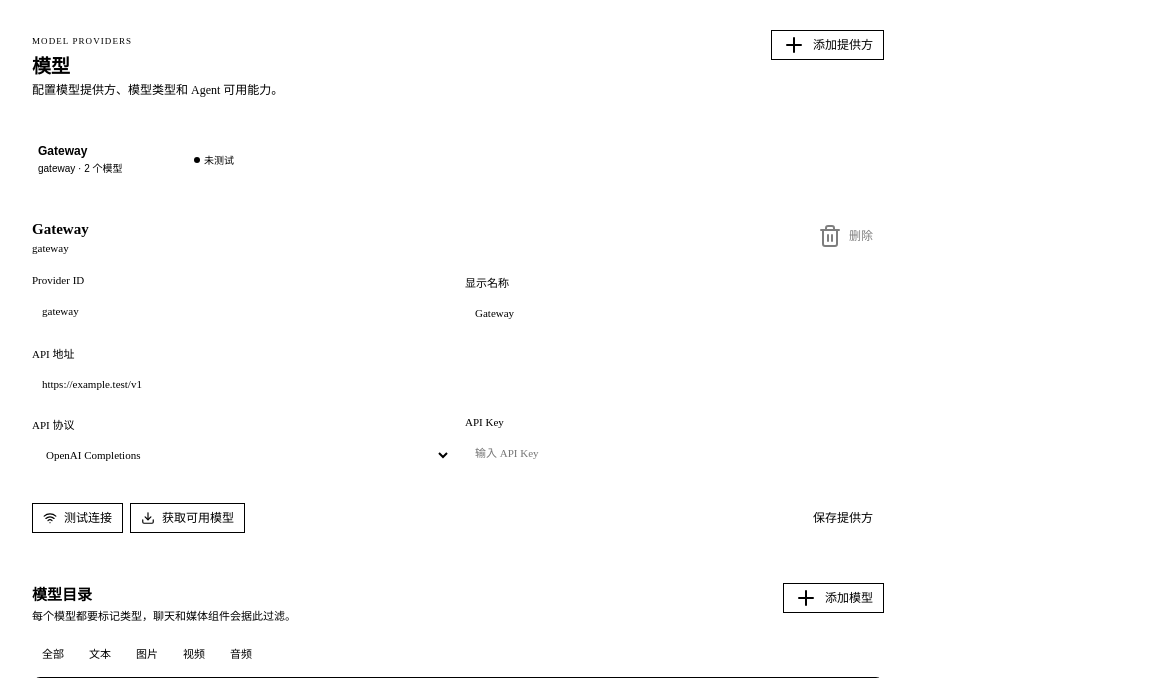
Test: SettingsPage and ModelSettingsCard › filters model catalog by text, image, video and audio type
Click the tab "图片" at (147, 653), box [126,639,168,667]
(page scrolled)
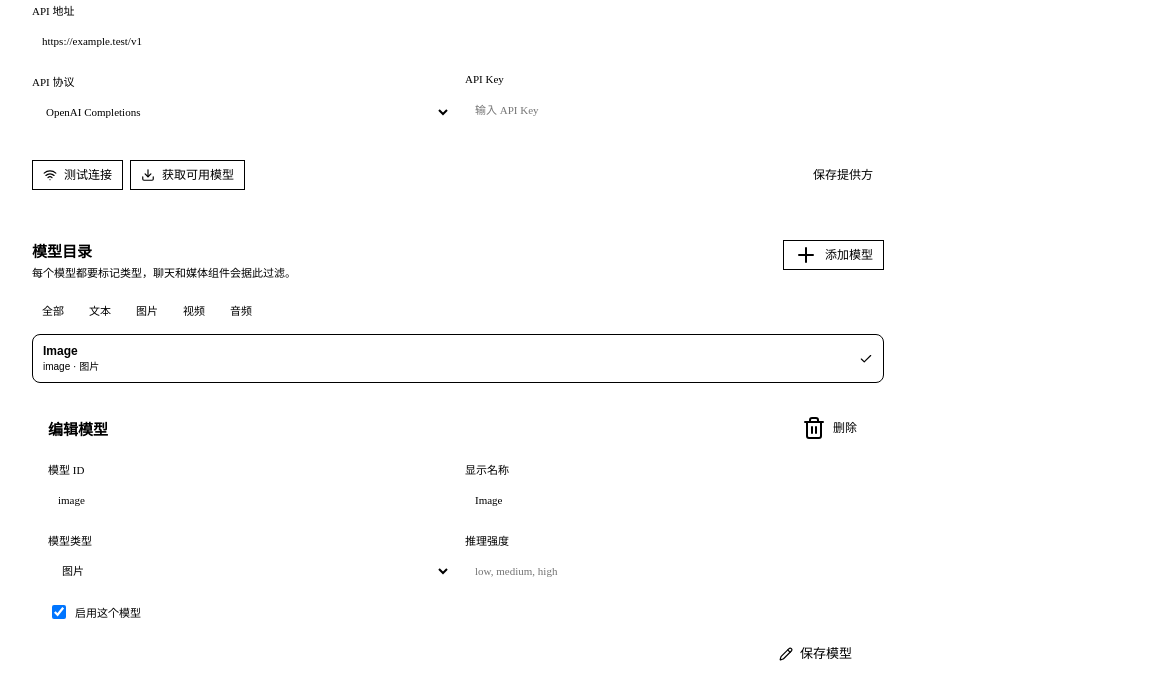
Expected: the button "Image image · 图片" is shown, [32,334,884,383]
Result: the dropdown labelled "模型类型" shows "图片" at [48,553,451,589]
